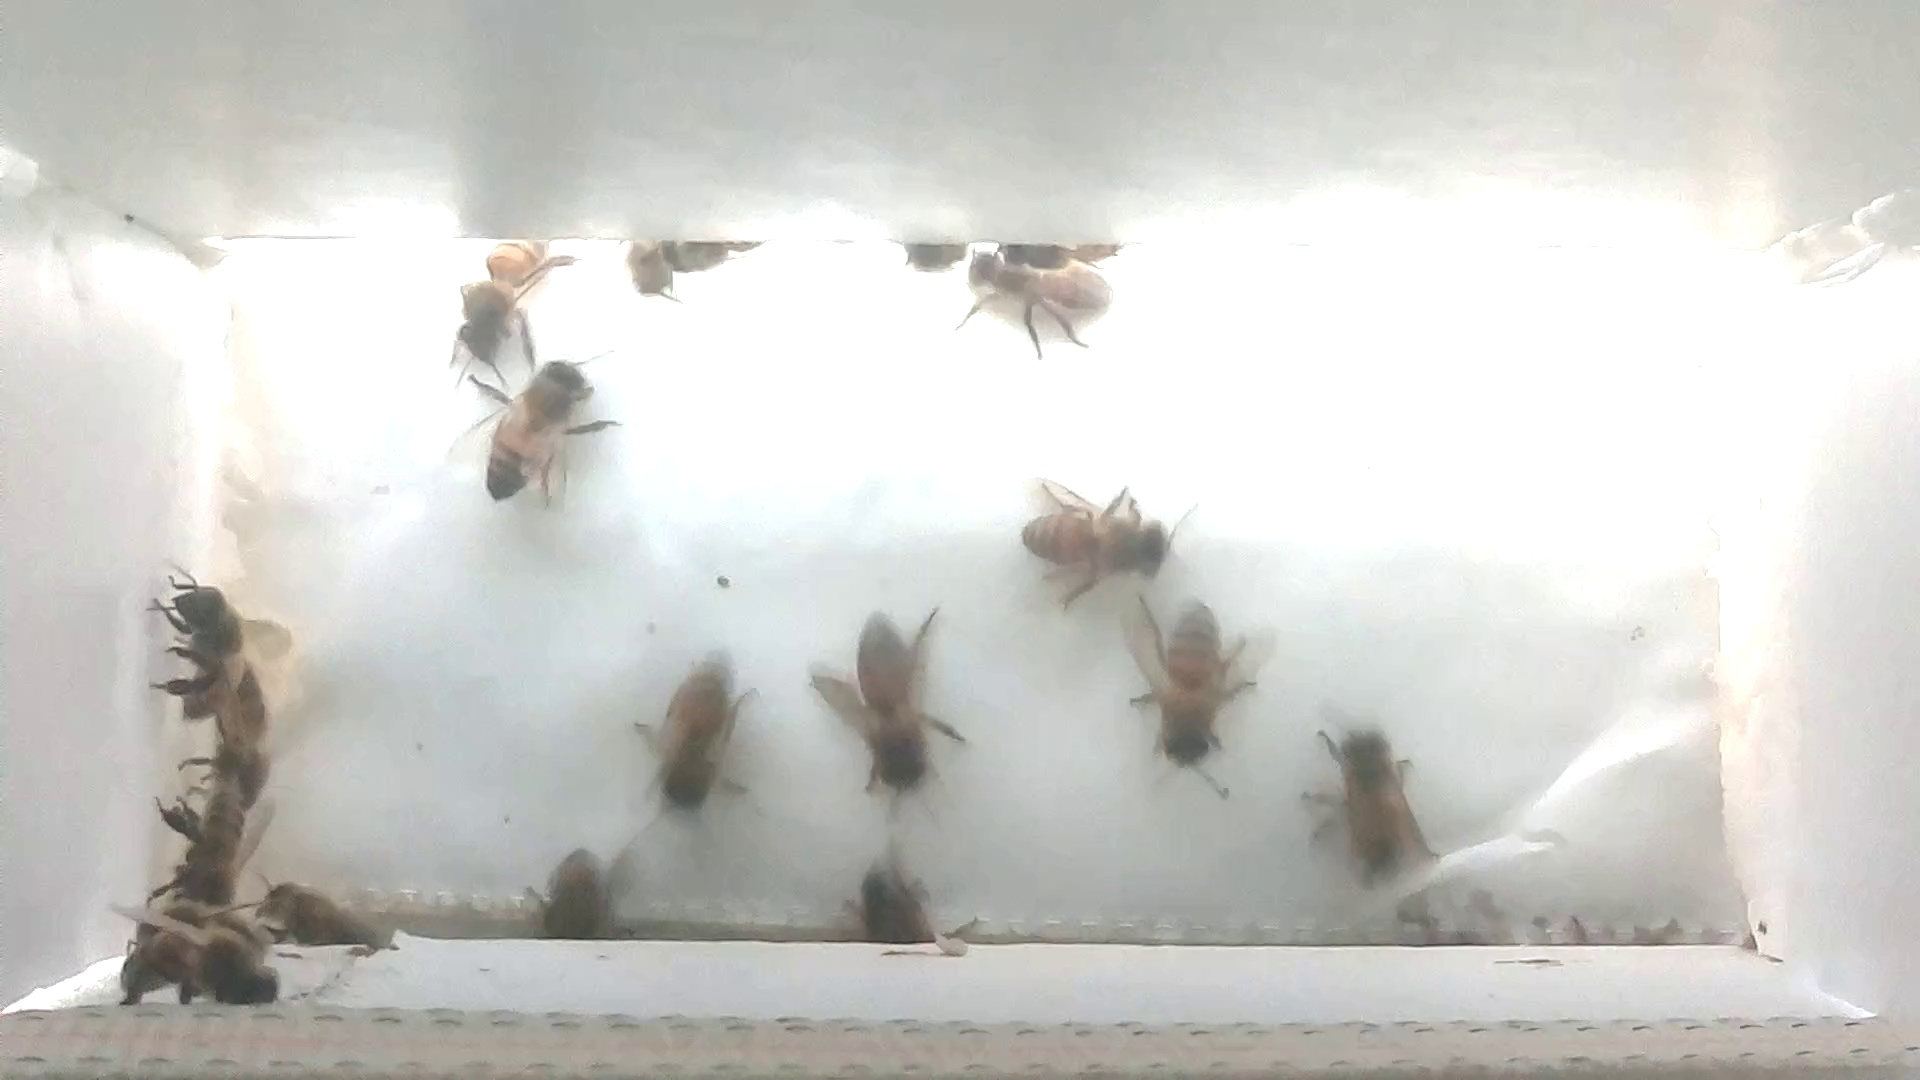bee: (796, 585, 973, 806), (1121, 579, 1271, 796), (1300, 705, 1453, 901), (410, 204, 579, 373), (455, 345, 621, 516), (630, 624, 764, 825), (1013, 465, 1183, 608), (109, 899, 291, 1023), (131, 760, 262, 910), (965, 240, 1121, 359), (144, 559, 249, 729), (605, 208, 783, 306), (829, 840, 971, 960), (174, 649, 284, 799), (245, 862, 394, 963), (525, 843, 640, 945)
